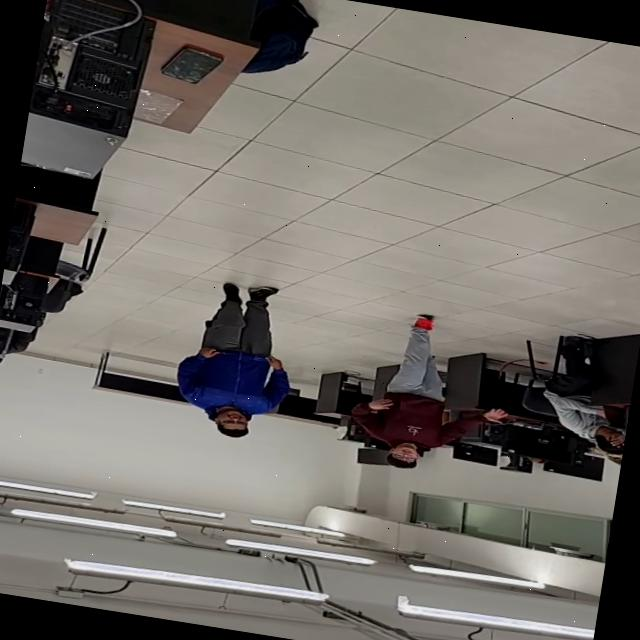Persona: (126, 262, 320, 460), (348, 286, 503, 489)
